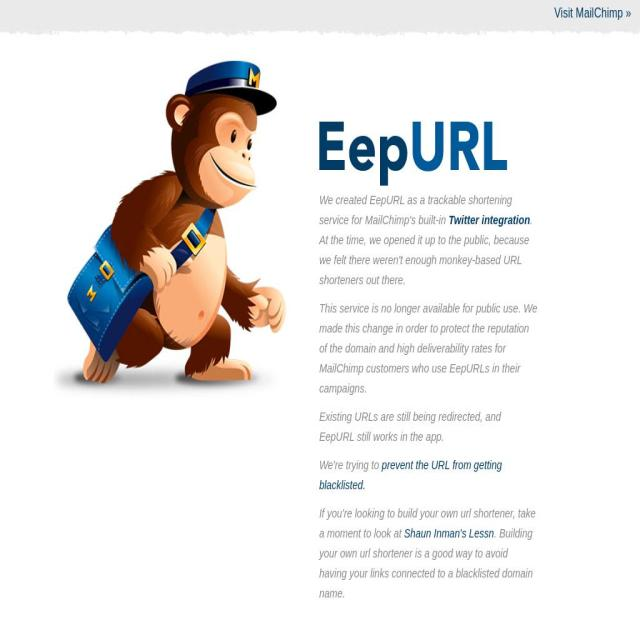heading: (319, 122, 508, 186)
image: (44, 55, 288, 412)
link: (319, 458, 502, 492), (404, 526, 494, 540), (448, 212, 530, 226), (554, 6, 631, 20)
text: (318, 301, 538, 395), (319, 212, 533, 286), (319, 526, 533, 600), (319, 406, 538, 446), (318, 506, 536, 540), (319, 192, 512, 226), (319, 301, 476, 315), (319, 458, 382, 472), (476, 301, 500, 315)
